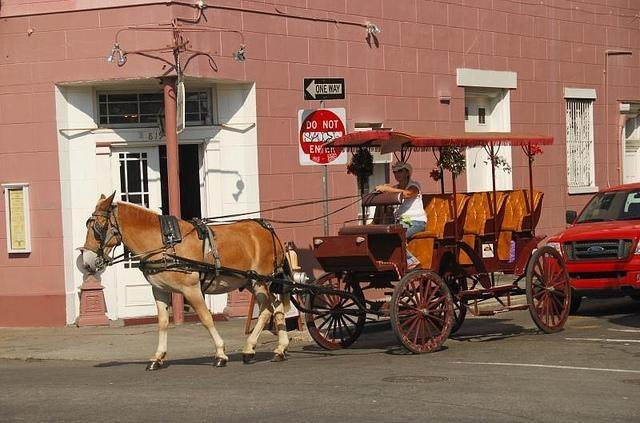car: (549, 178, 640, 308)
